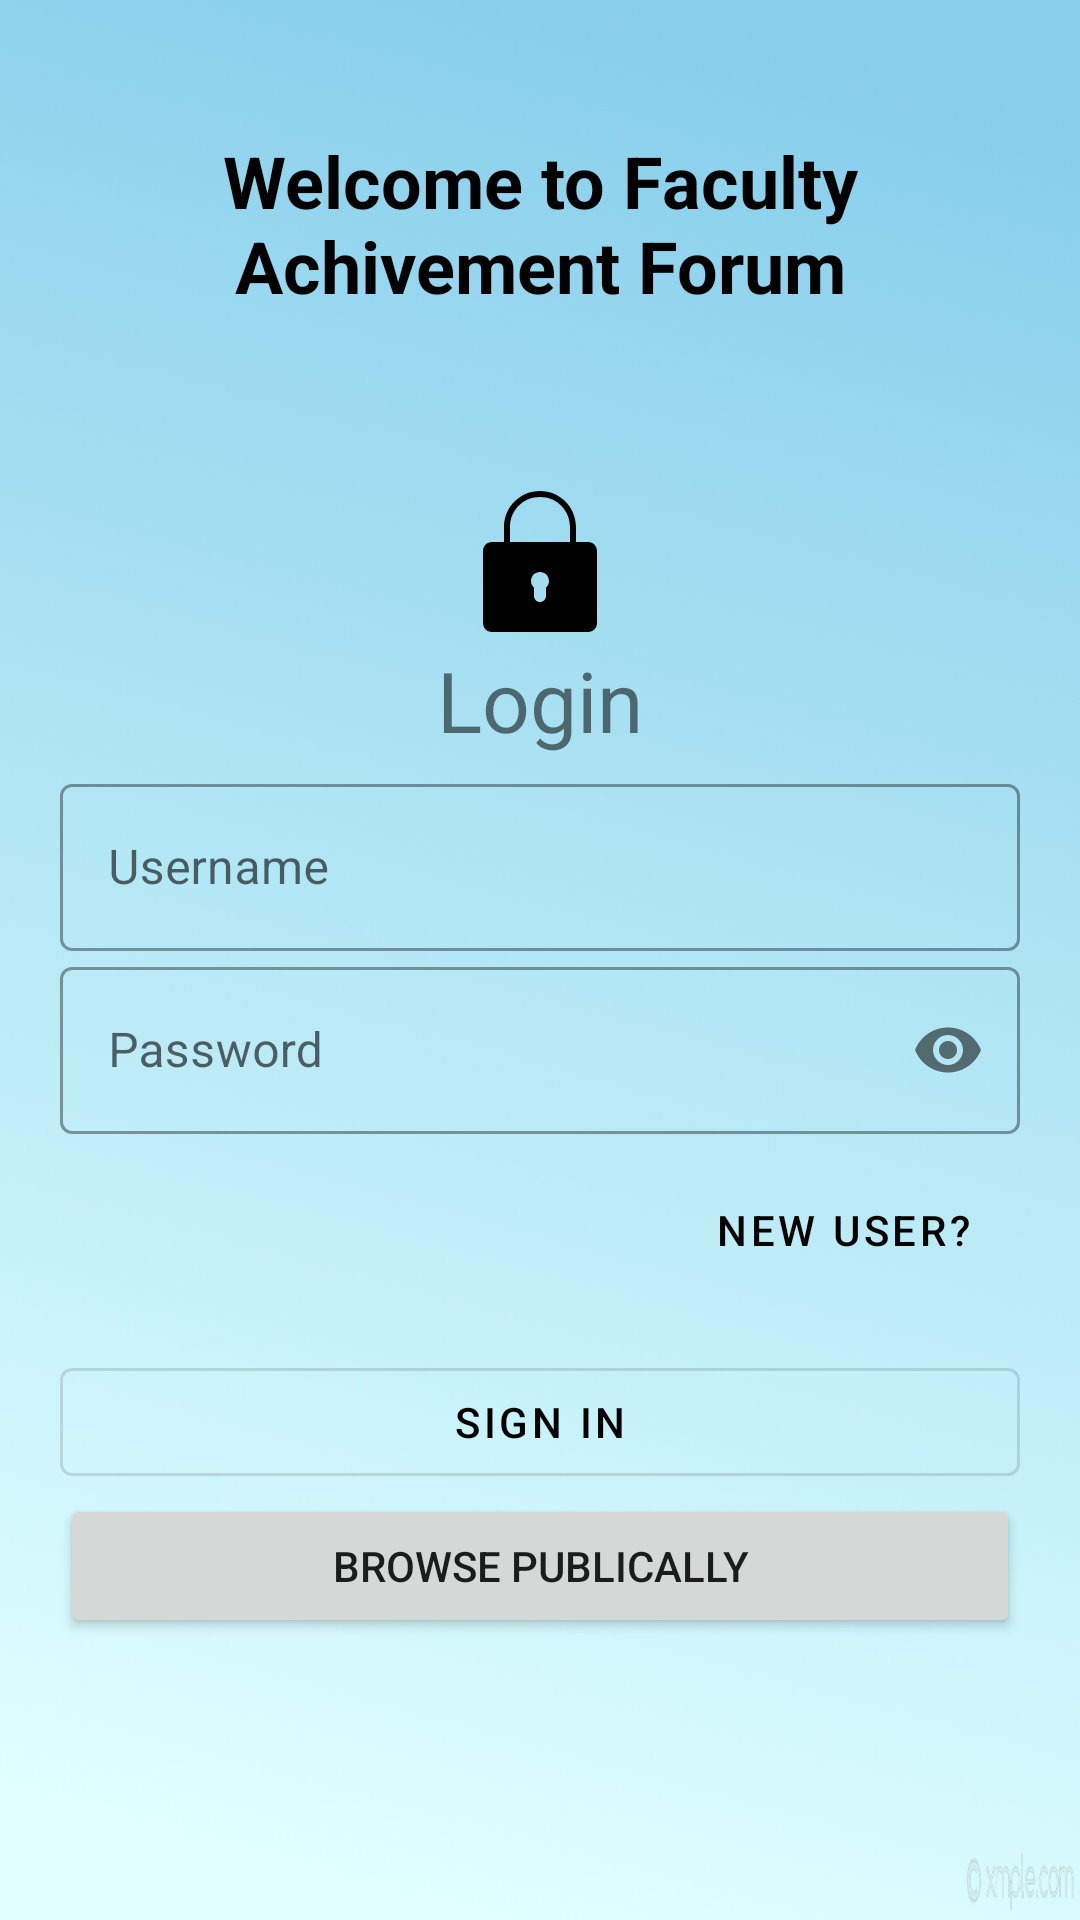

Icons on this 1080px×1920px Android screen, each with its box as bbox(x1, y1, x2, y2):
lock: bbox(483, 491, 597, 632)
